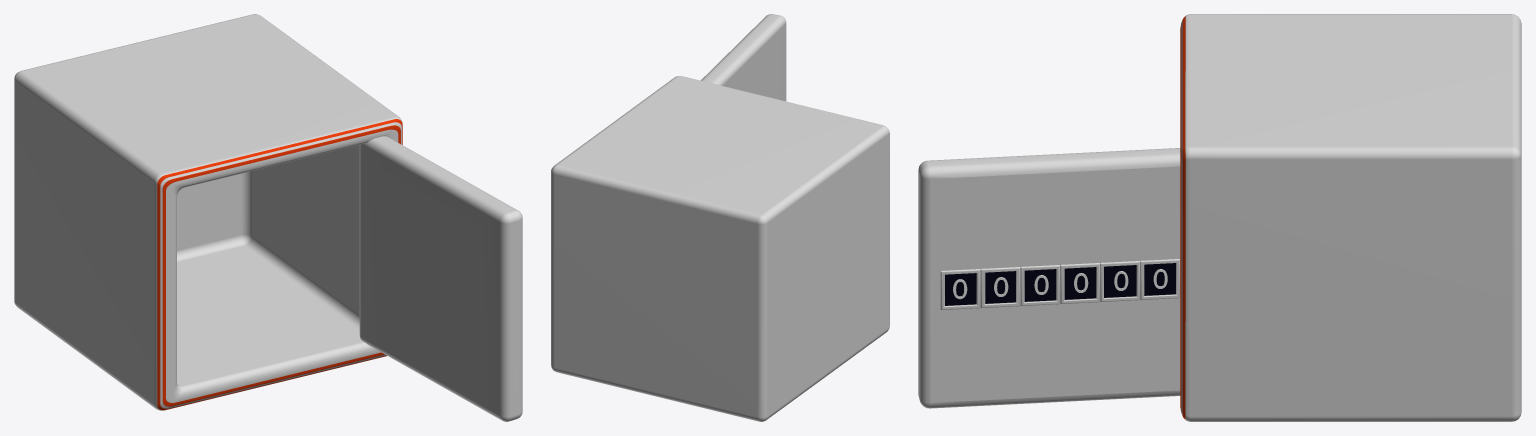
File: safeAnimation (2).fbx
3 views of the same model, side by side, from view 1: azimuth 30°, elevation 25°; view 2: azimuth 150°, elevation 25°; view 3: azimuth 270°, elevation 25° (orthographic). The views are drawn at different scales.
Visible parts, largest first — view 1: base, door2; view 2: base, door2; view 3: base, door2.
Part boxes in pixels (x1,y1,x2,y2): base: (14, 14, 402, 410); door2: (359, 136, 522, 421); base: (551, 76, 889, 421); door2: (701, 14, 786, 101); base: (1180, 14, 1521, 421); door2: (918, 148, 1180, 408).
Bounding box in the file's own units: 3 × 2.67 × 5.32.
